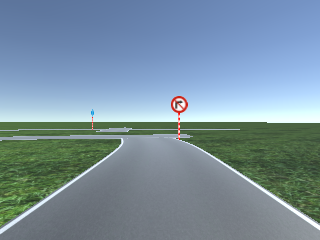0: (1, 186, 320, 239)
NoRight: (170, 95, 188, 113)
